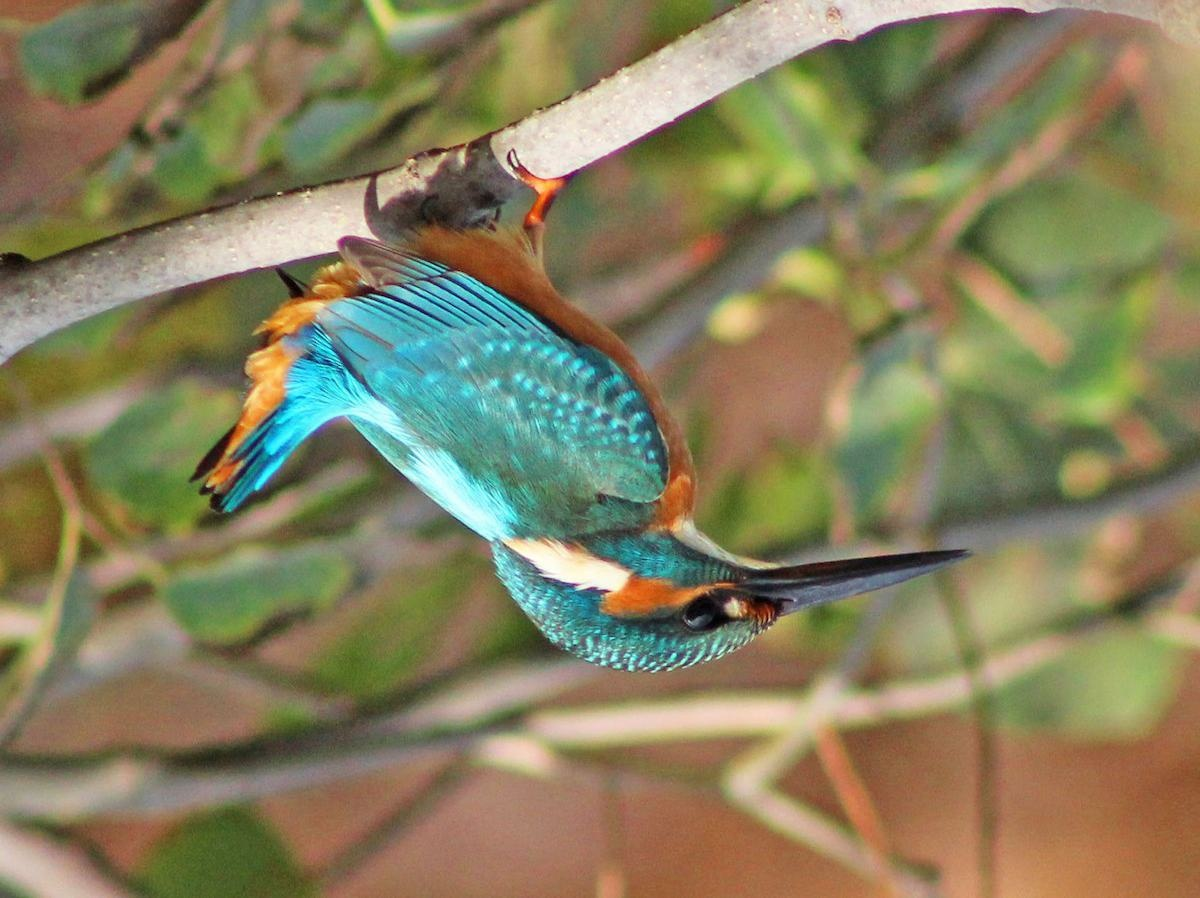kingfisher: (256, 154, 990, 685)
